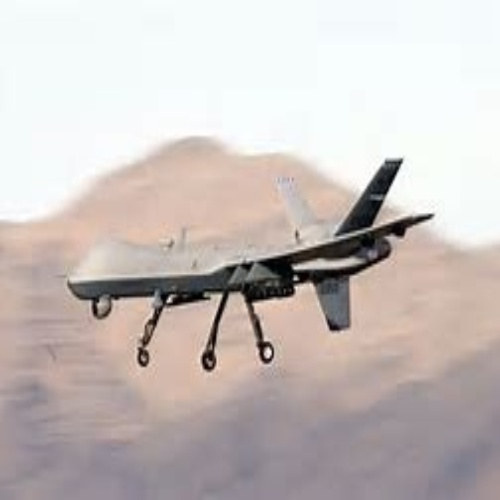uav: (66, 157, 438, 367)
